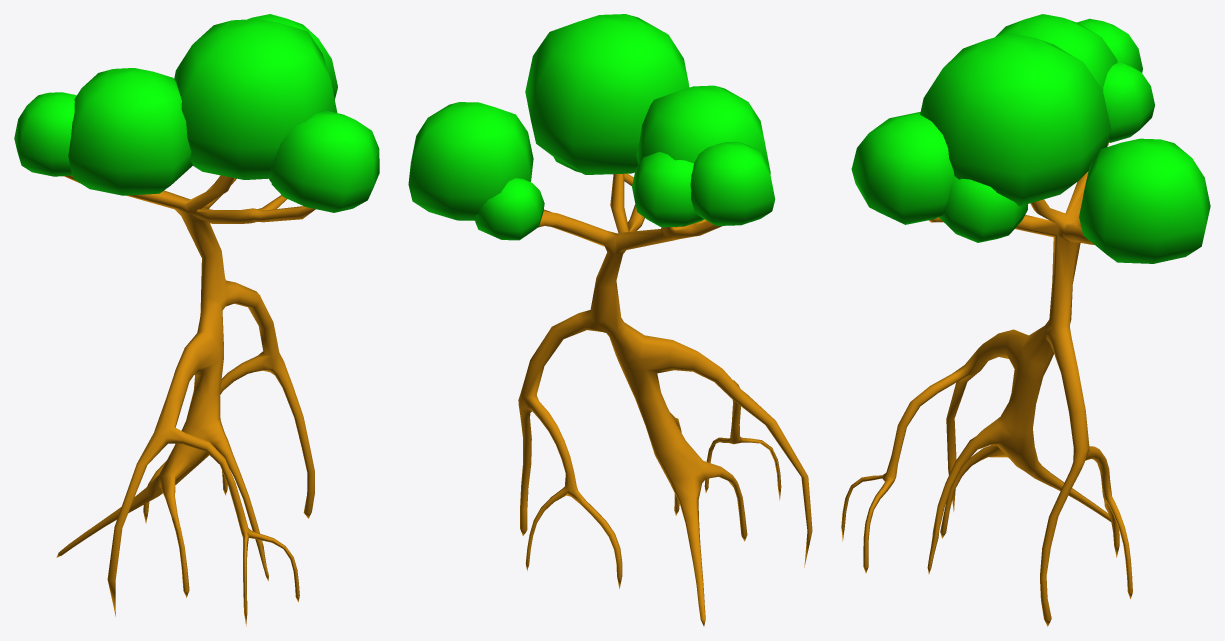
Rendered from MangroveGede.fbx.
3 views of the same model, side by side, from view 1: azimuth 30°, elevation 25°; view 2: azimuth 150°, elevation 25°; view 3: azimuth 270°, elevation 25° (orthographic). The views are drawn at different scales.
Visible parts, largest first — view 1: Mangrove Optimize.001; view 2: Mangrove Optimize.001; view 3: Mangrove Optimize.001.
Part boxes in pixels (x1,y1,x2,y2): Mangrove Optimize.001: [14, 14, 379, 626]; Mangrove Optimize.001: [408, 14, 812, 626]; Mangrove Optimize.001: [841, 14, 1210, 626].
Size of the model in its own units: 142 by 219 by 131.
